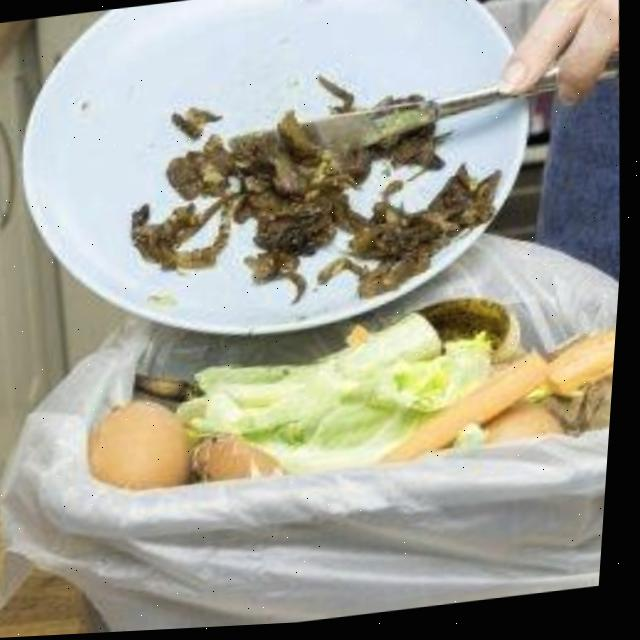Garbage: (95, 304, 621, 486), (134, 77, 500, 305)
